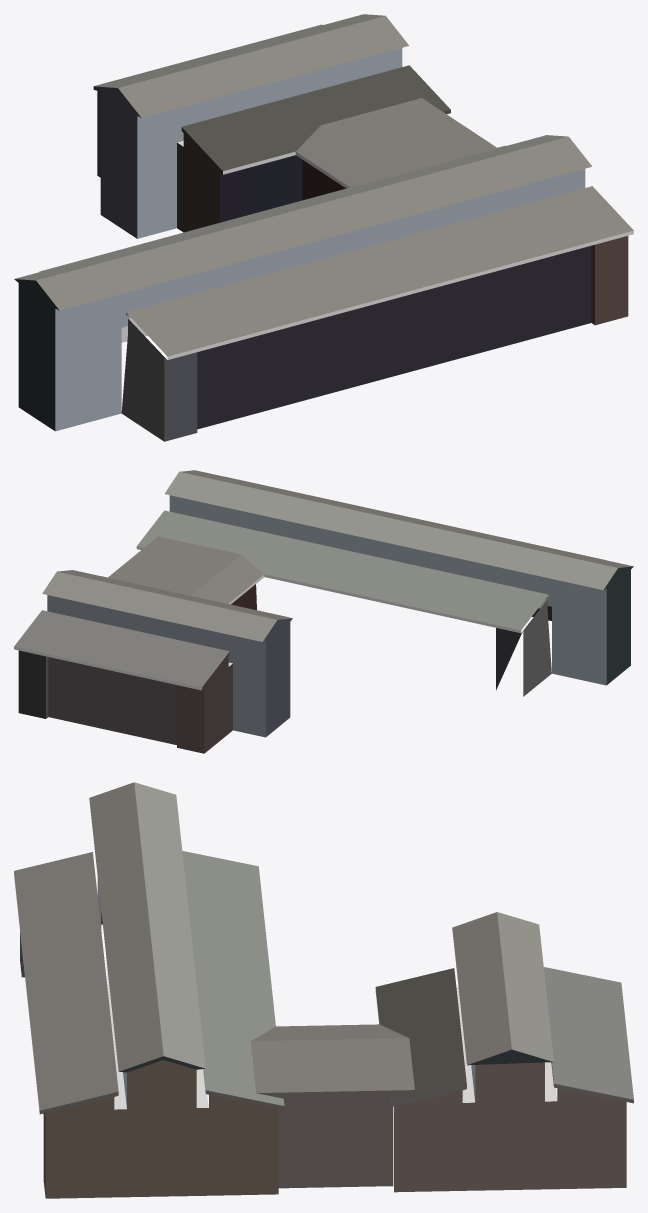
Rendered from aquarium-visitors-center.glb.
3 renders of one model, top to bottom at view 1: azimuth 30°, elevation 25°; view 2: azimuth 150°, elevation 25°; view 3: azimuth 270°, elevation 25°, orthographic. The views are drawn at different scales.
Visible parts, largest first — view 1: LOD0; view 2: LOD0; view 3: LOD0.
Boxes of the visible parts, x1,y1,x2,y2 form: LOD0: [14, 14, 633, 441]; LOD0: [14, 470, 633, 753]; LOD0: [14, 782, 633, 1198].
Size of what is drawn, in the model's own units: 61.91 by 14.79 by 58.54.
2 materials, 2 textured.
